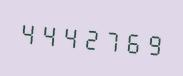four: (17, 13, 37, 51), (38, 15, 58, 53), (59, 17, 79, 54)
nine: (143, 24, 163, 62)
seven: (101, 20, 121, 58)
six: (122, 22, 142, 60)
two: (80, 19, 100, 56)
